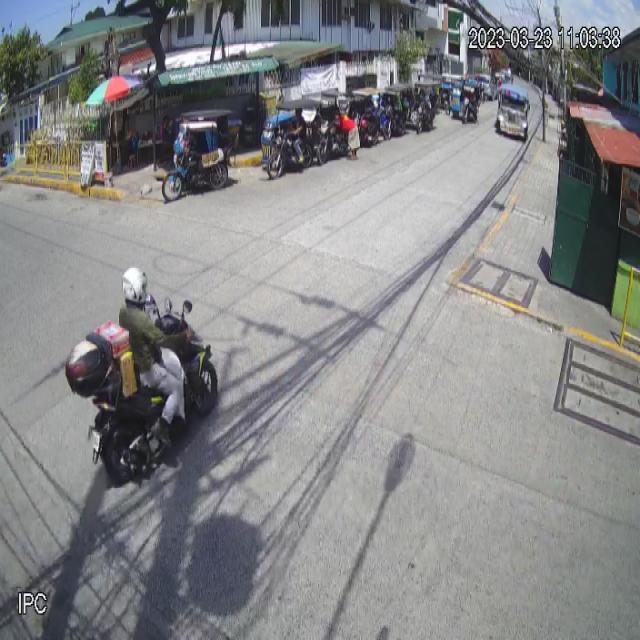Motorcycle: (65, 298, 219, 486)
